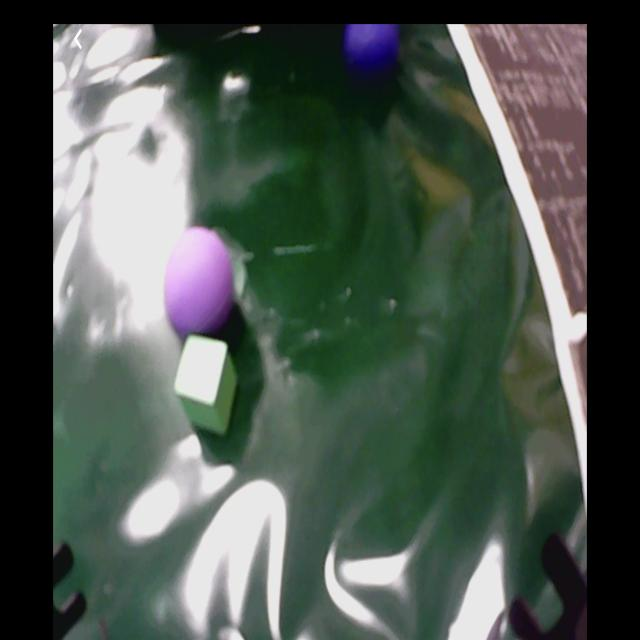ball: (164, 226, 232, 338), (346, 26, 404, 68)
